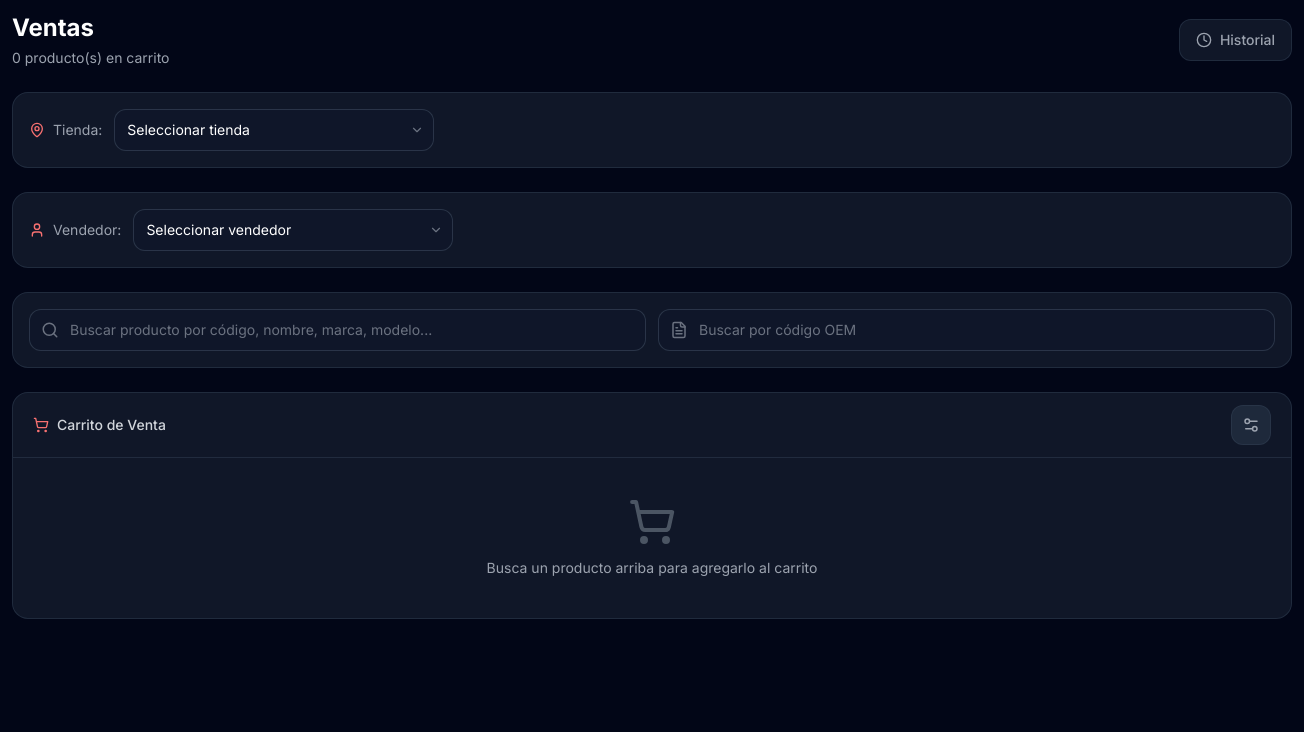
Test case: SalesPage — Carrito (E7.5) › agregar mismo producto incrementa cantidad
Type "Filtro de Aceite" into the field with placeholder "Buscar producto por código, nombre, marca, modelo...". click: (338, 330)
box: [29, 309, 646, 351]
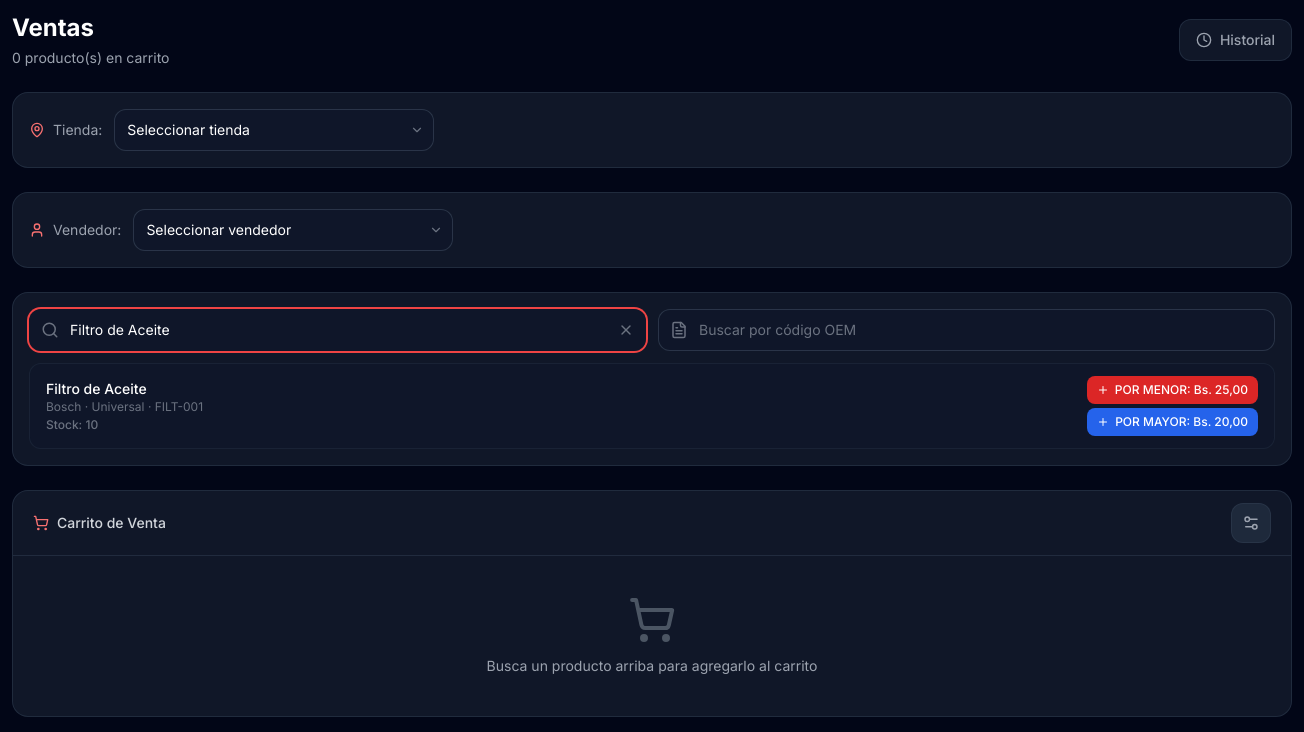
Click the button "POR MENOR: Bs. 25,00". click: (1172, 390)
box: [1087, 376, 1258, 404]
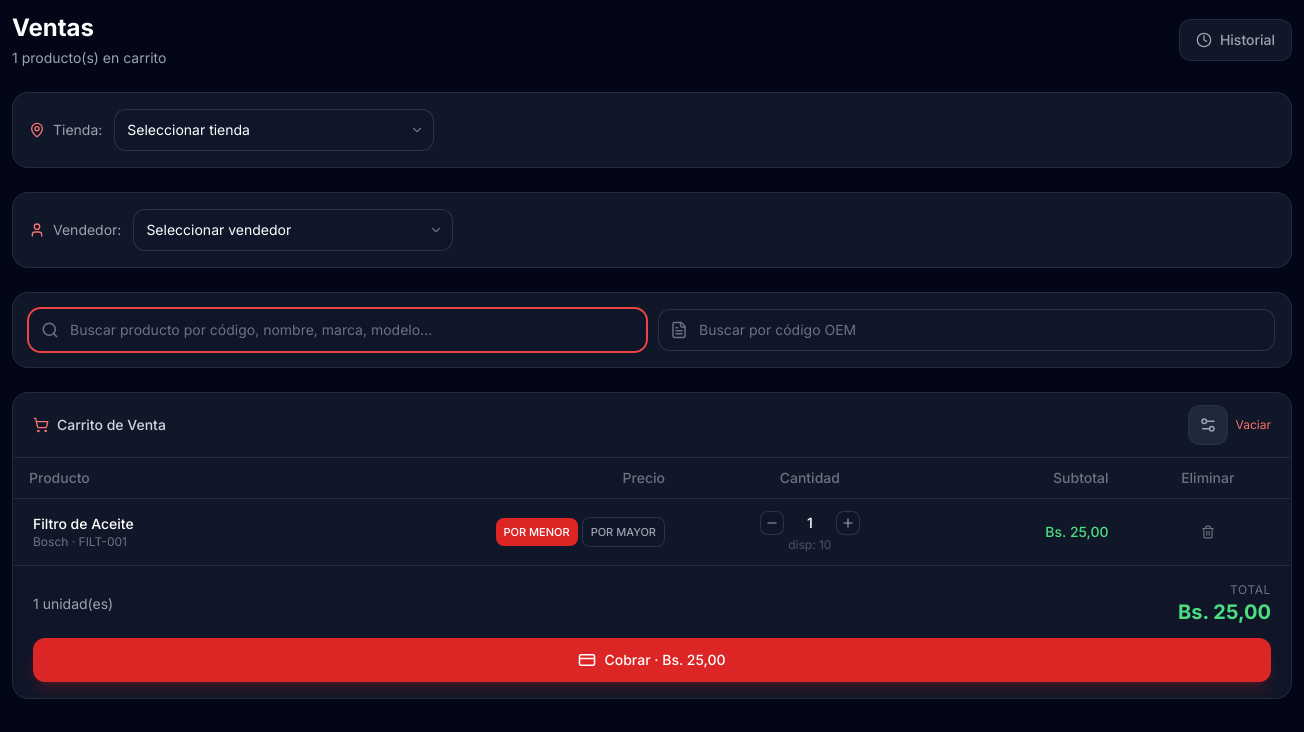
Result: the text "1 producto(s) en carrito" is shown at [12, 48, 166, 68]
Click the 7th button. click: (848, 523)
box: [836, 511, 860, 535]
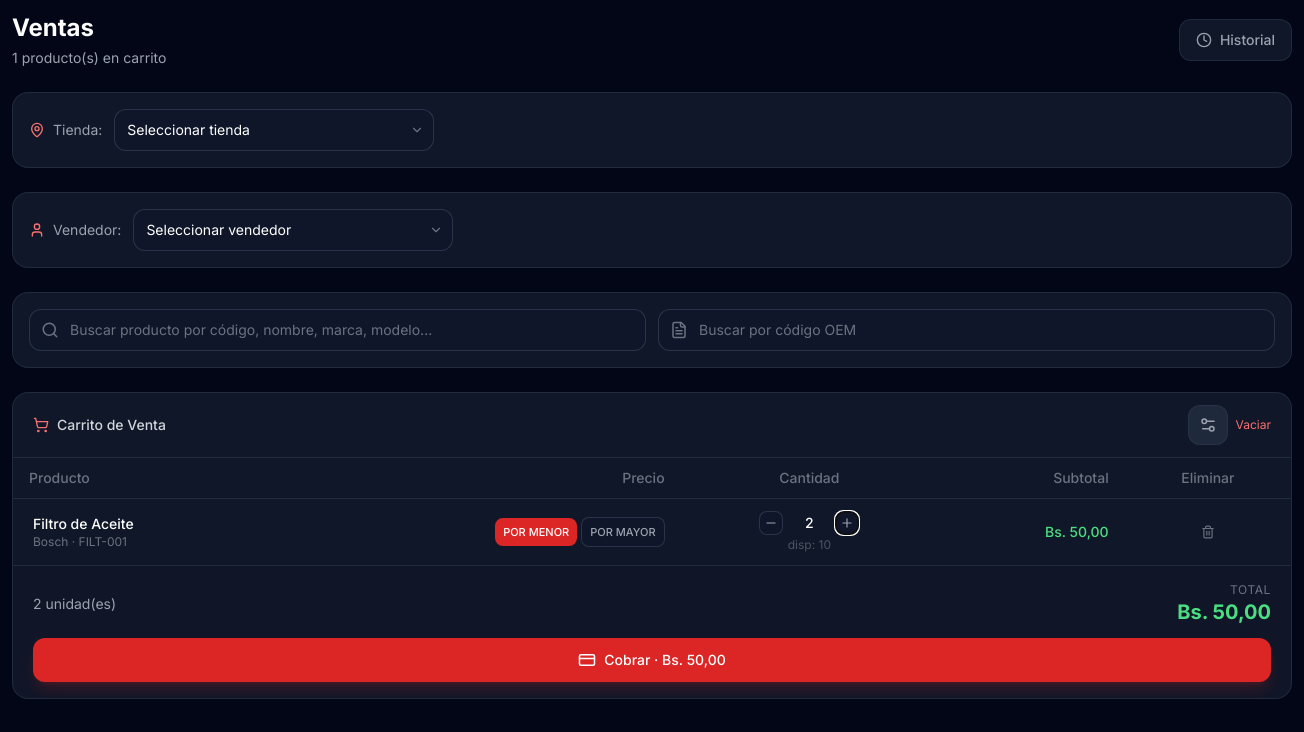
Result: the text "2" is shown at [805, 514, 814, 531]
